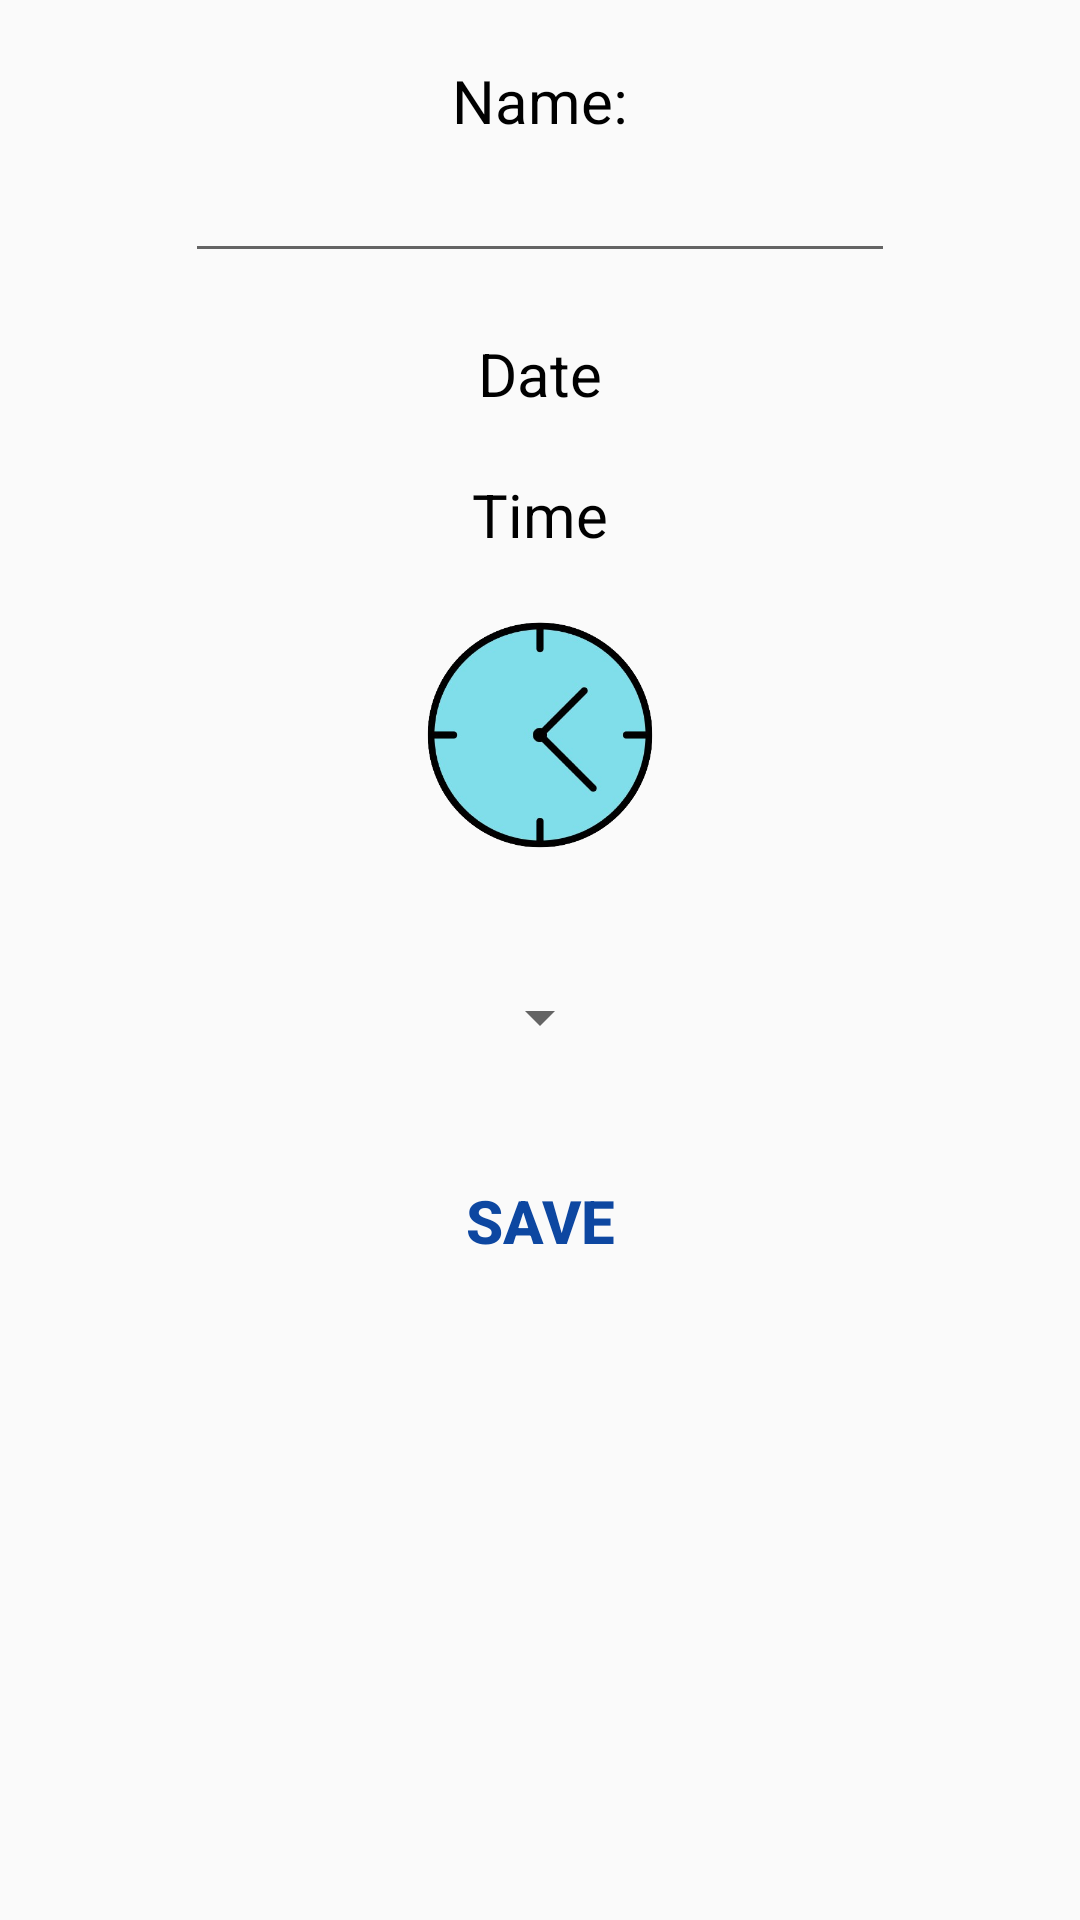

Icon bounding boxes for this 1080x1920 phone screenshot, format (x1, y1, x2, y2):
clockicon: (428, 622, 652, 848)
